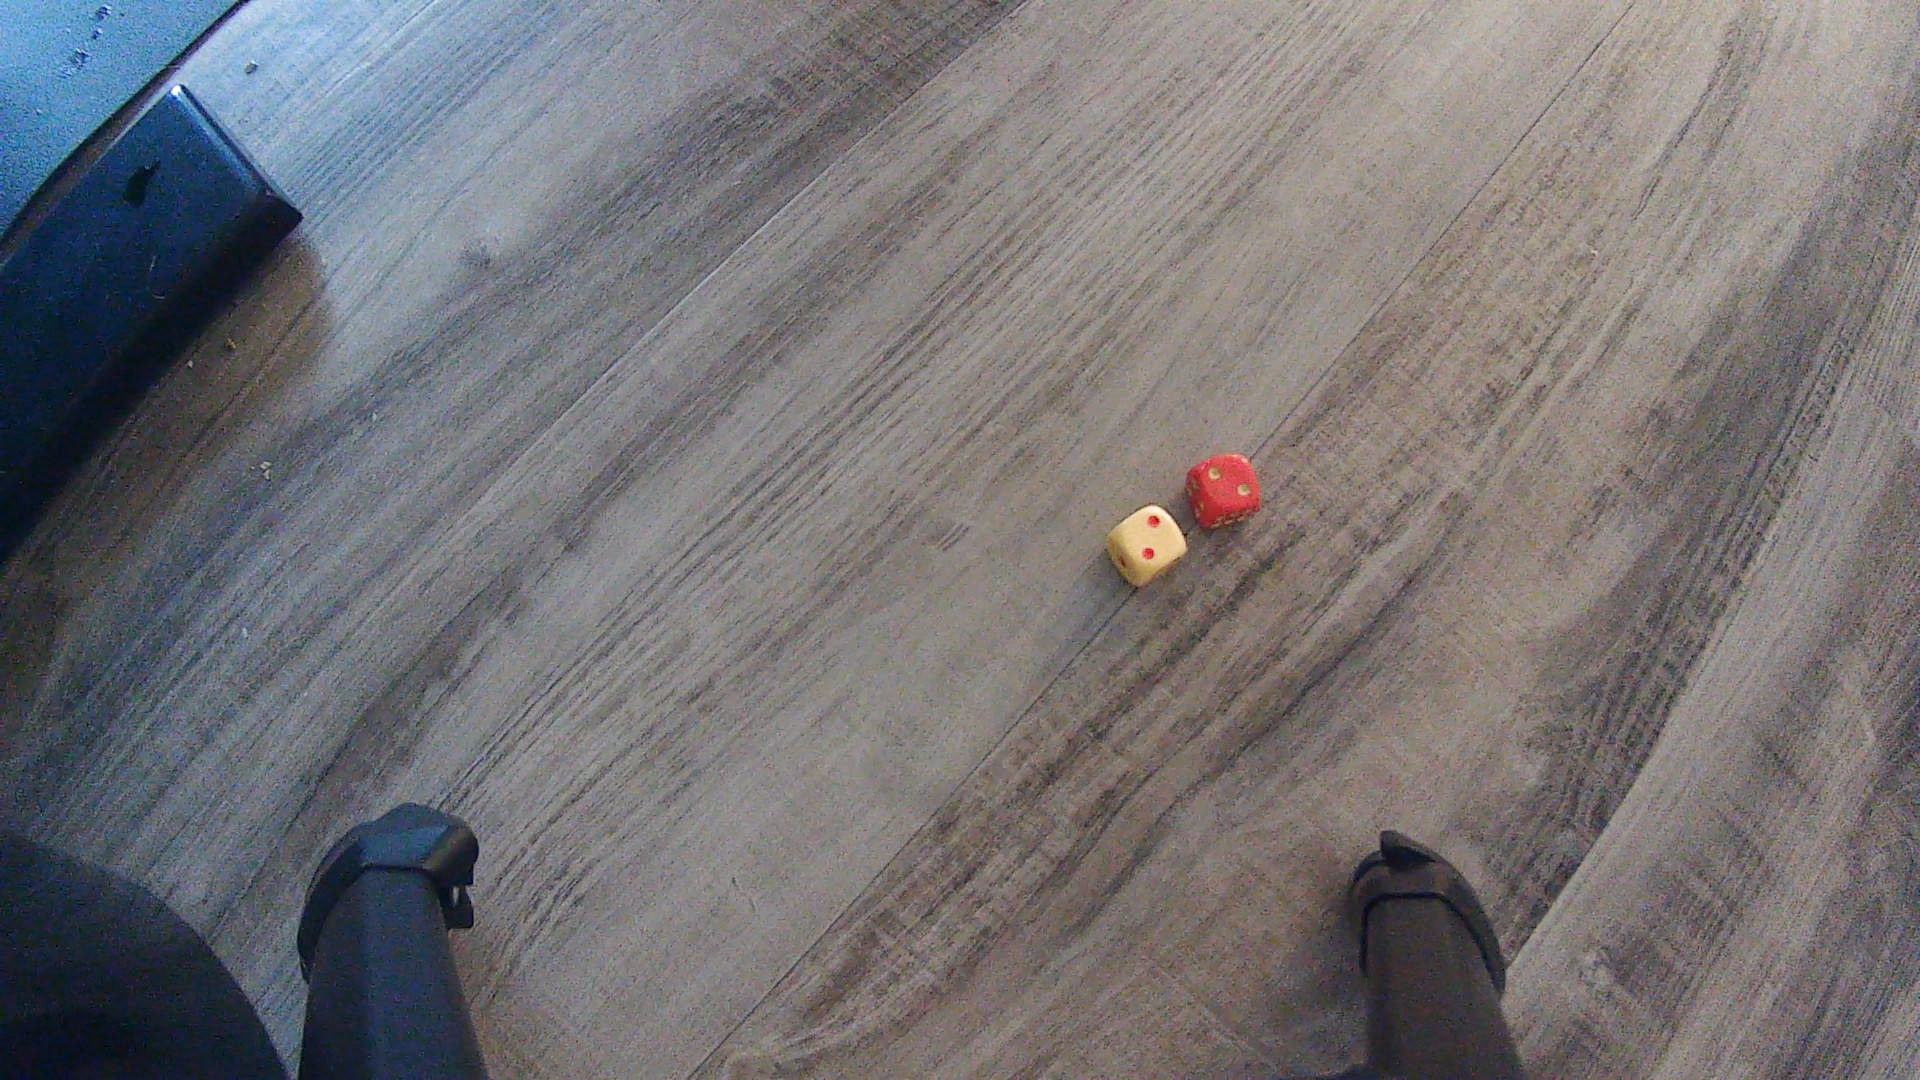die: (1104, 502, 1189, 591), (1185, 454, 1263, 533)
